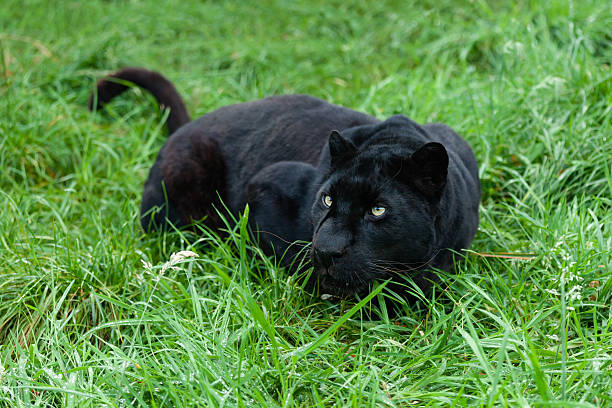panther: (288, 124, 457, 309)
